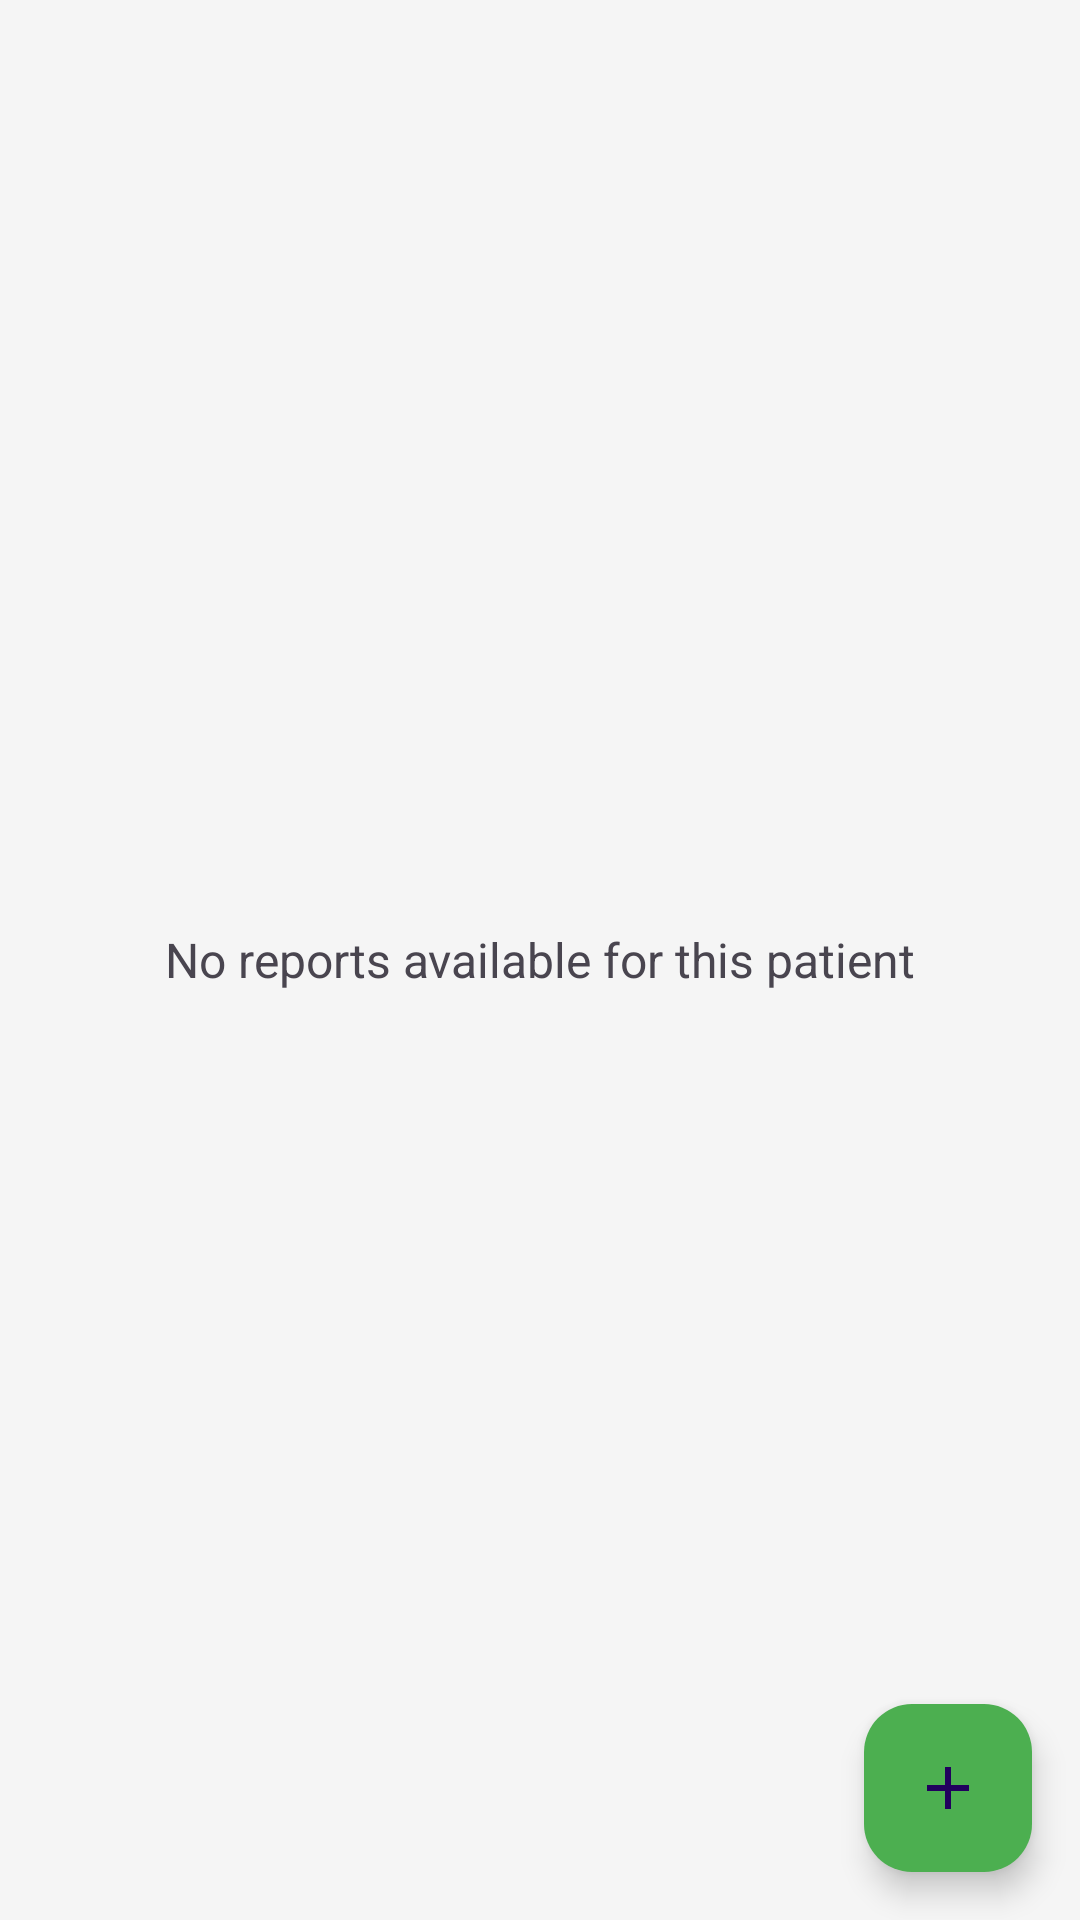

Where to tap for icons on this 1080 × 1920 app screen, as [x,y]:
Upload new report: [948,1788]
